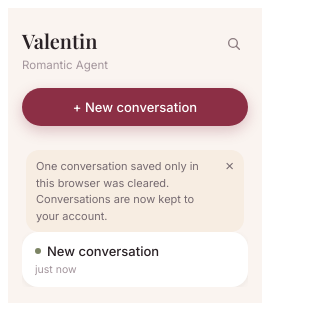
Test: SessionSidebar › conversations left in this browser › dismisses the notice when asked
This screenshot has width=320, height=320.
Expected: the message with test id "session-notice" is shown, left=26, top=150, right=244, bottom=232
Click the button named "Dismiss".
click(230, 166)  # box left=225, top=158, right=234, bottom=173
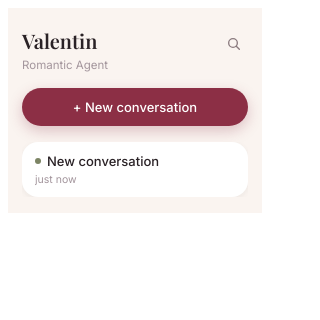
Expected: the message with test id "session-notice" is gone
